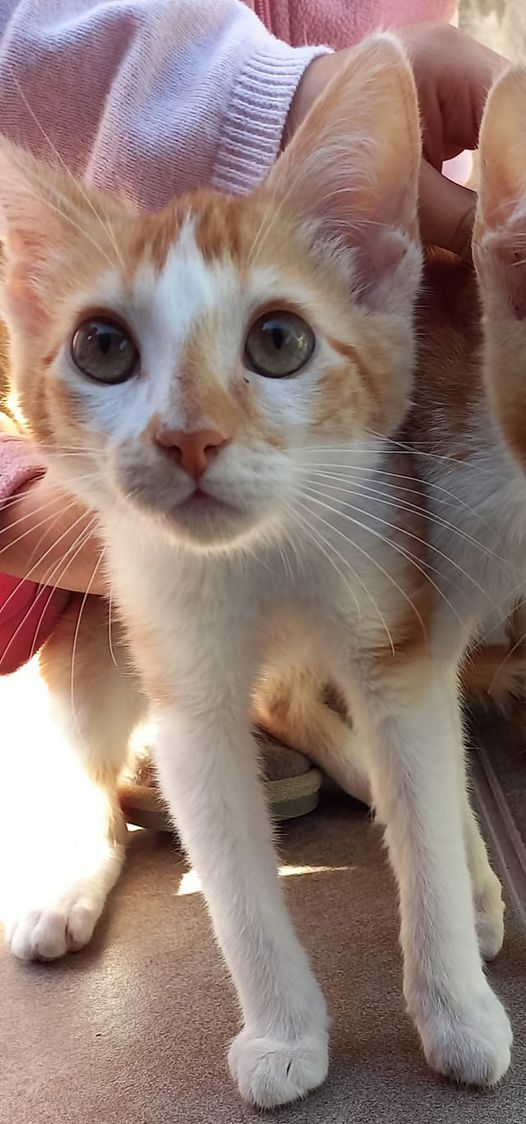cat: (1, 59, 518, 1098)
